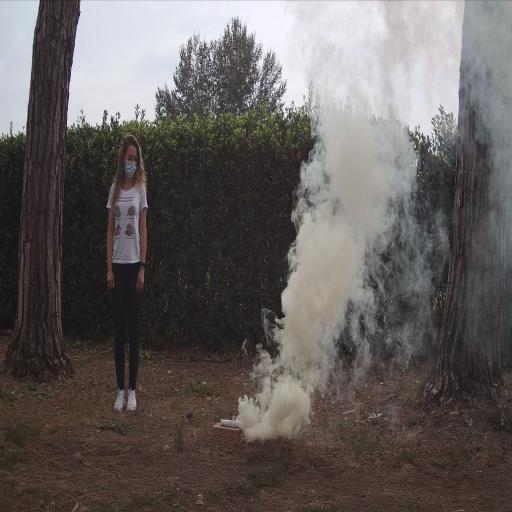leakage: (220, 0, 512, 462)
